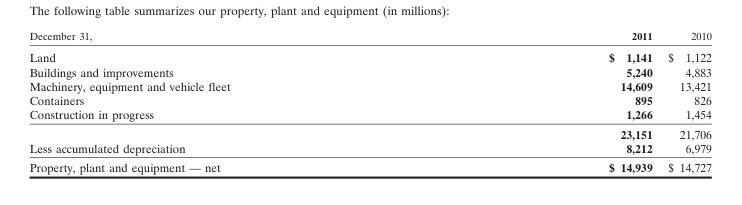table: (28, 29, 710, 174)
table column: (28, 29, 418, 174), (418, 29, 659, 174), (659, 29, 710, 174)
table column header: (28, 29, 710, 46)
table row: (28, 46, 710, 64), (28, 29, 710, 46), (28, 106, 710, 123), (28, 123, 710, 140), (28, 140, 710, 157), (28, 157, 710, 174), (28, 64, 710, 78), (28, 78, 710, 92), (28, 92, 710, 106)
